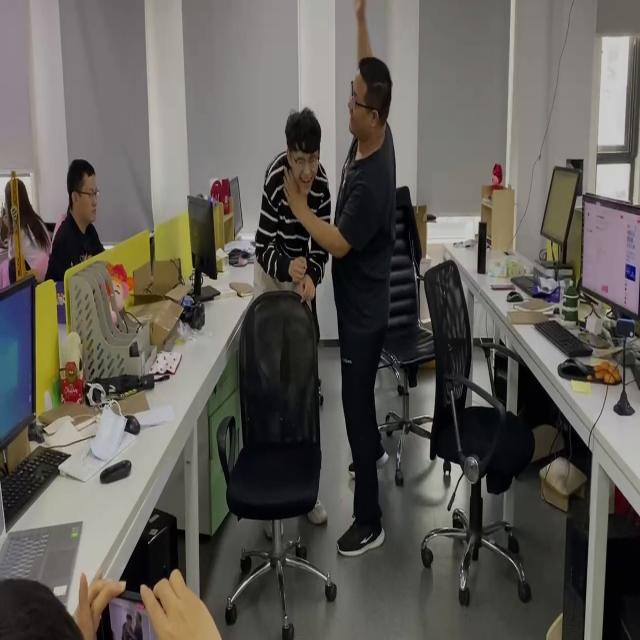fight: (253, 50, 409, 562)
